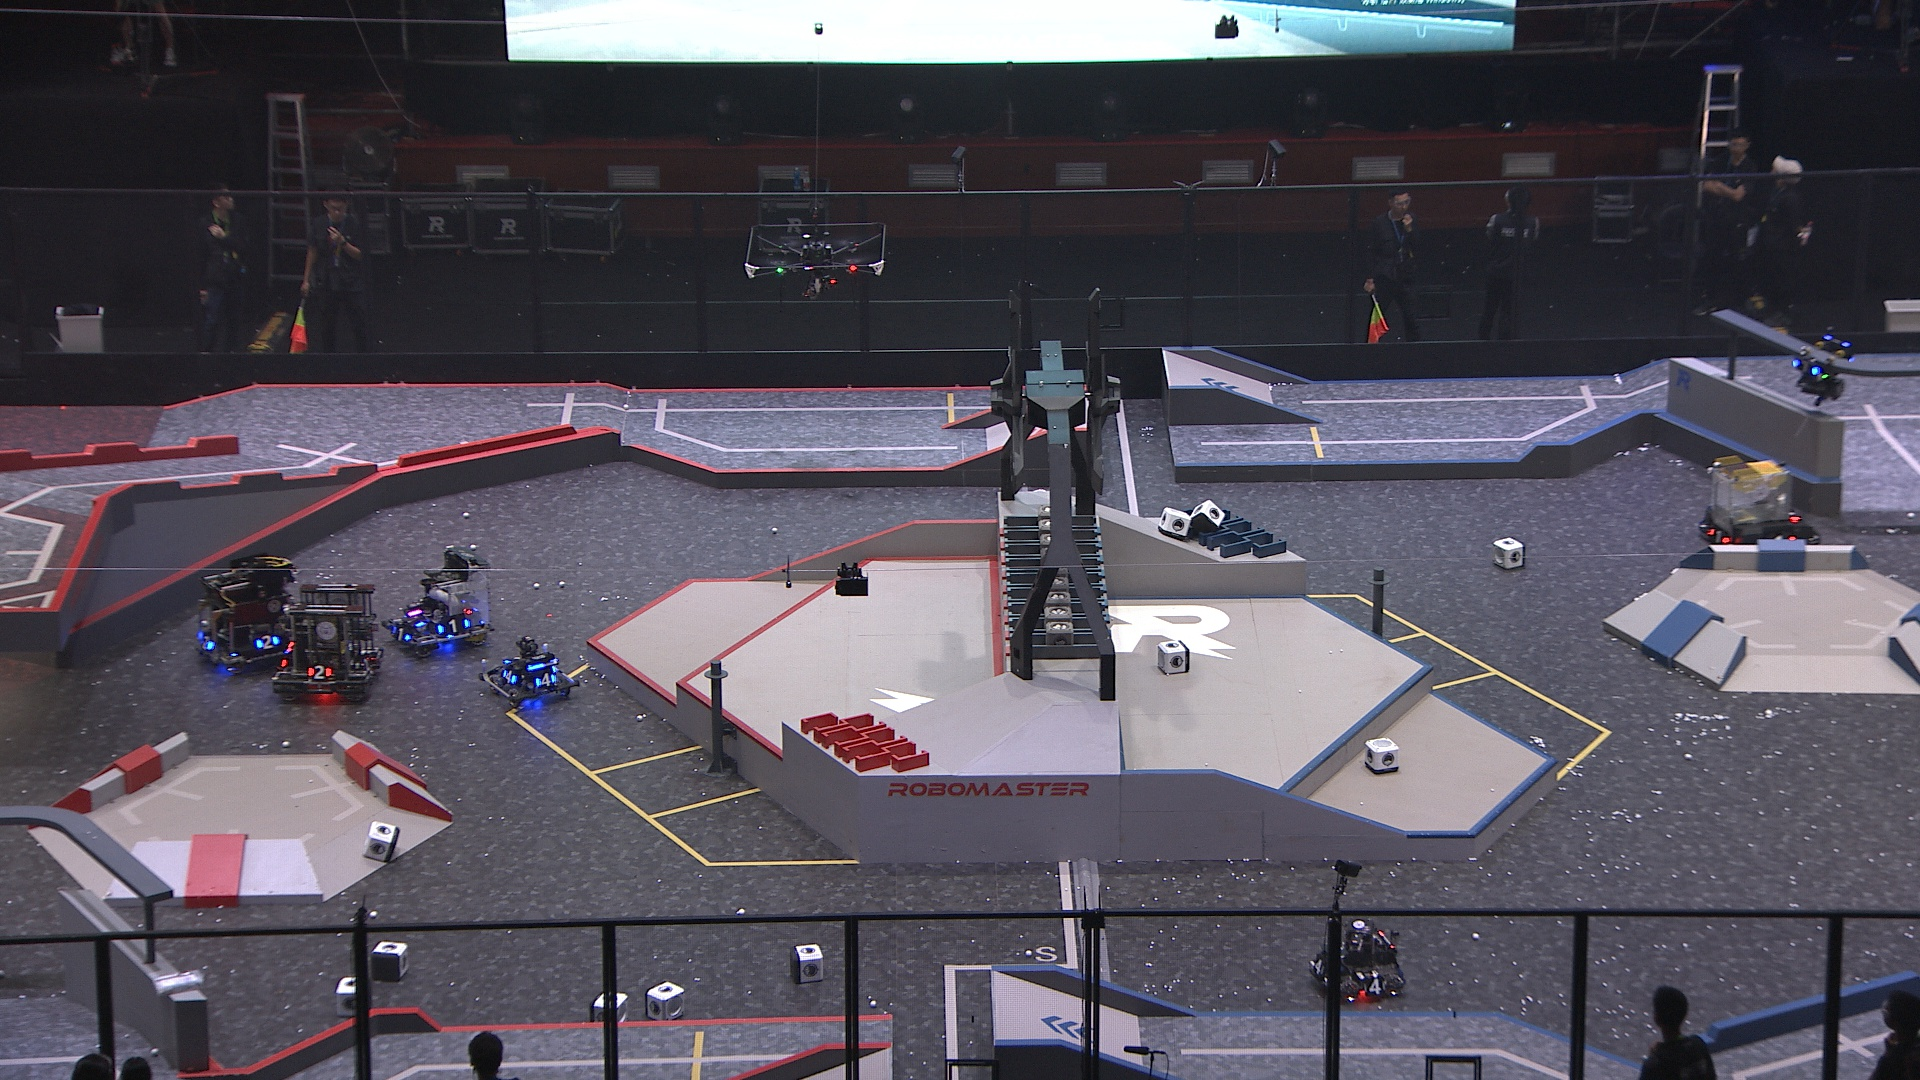armor: (436, 615, 475, 638), (1789, 353, 1820, 378), (252, 632, 284, 651), (306, 662, 334, 680), (390, 624, 413, 646), (400, 612, 429, 629), (500, 665, 520, 688), (531, 670, 556, 688), (1704, 526, 1727, 545), (195, 632, 214, 655), (1364, 978, 1387, 994), (357, 655, 376, 673), (1311, 956, 1324, 978)
car: (266, 576, 386, 702), (191, 553, 306, 678), (1697, 454, 1822, 564), (382, 542, 502, 657), (1305, 920, 1408, 1004), (476, 633, 584, 707)
watcher: (1785, 323, 1851, 404)
